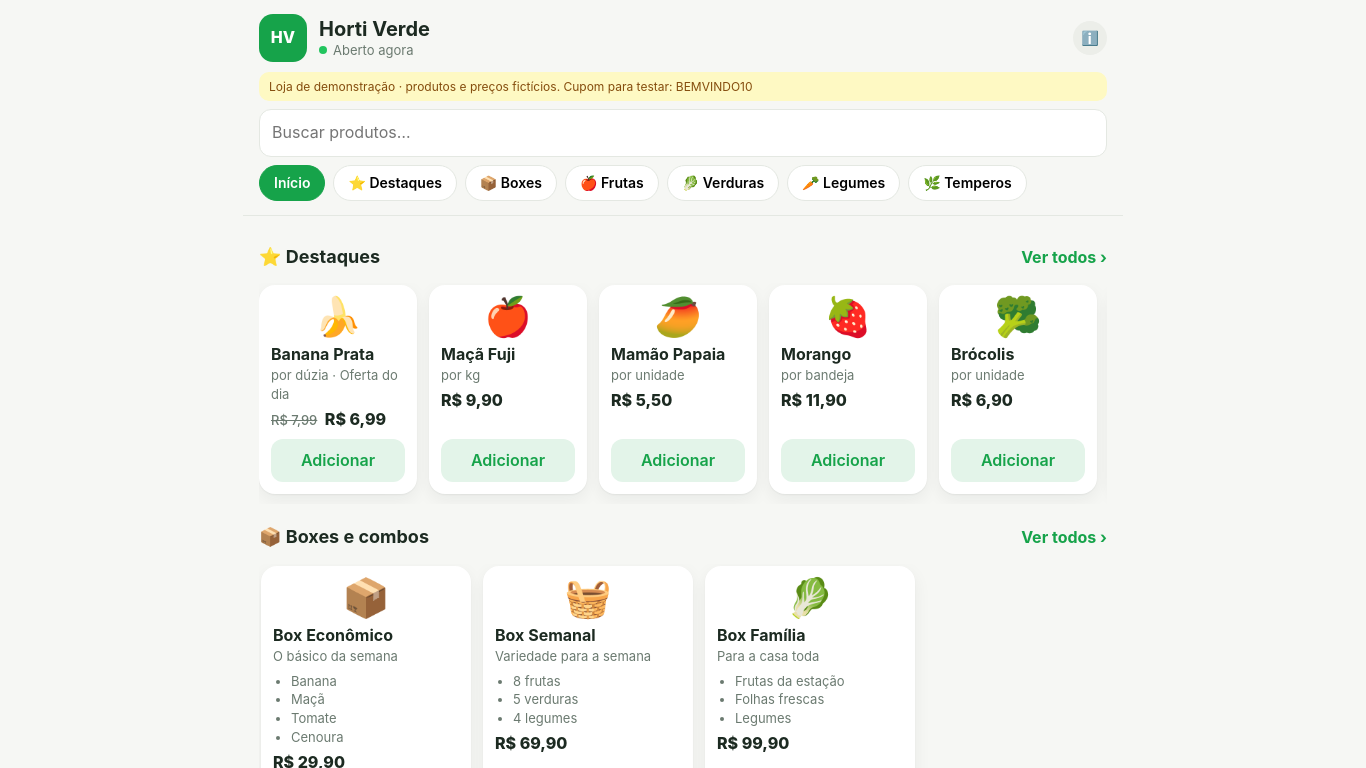
Test case: vitrine (loja demonstração) › ESC fecha o carrinho e a ficha da loja mostra horários
The width and height of the screenshot is (1366, 768).
Click the button named "Informações da loja" at point(1090, 38), box [1073,21,1107,55]
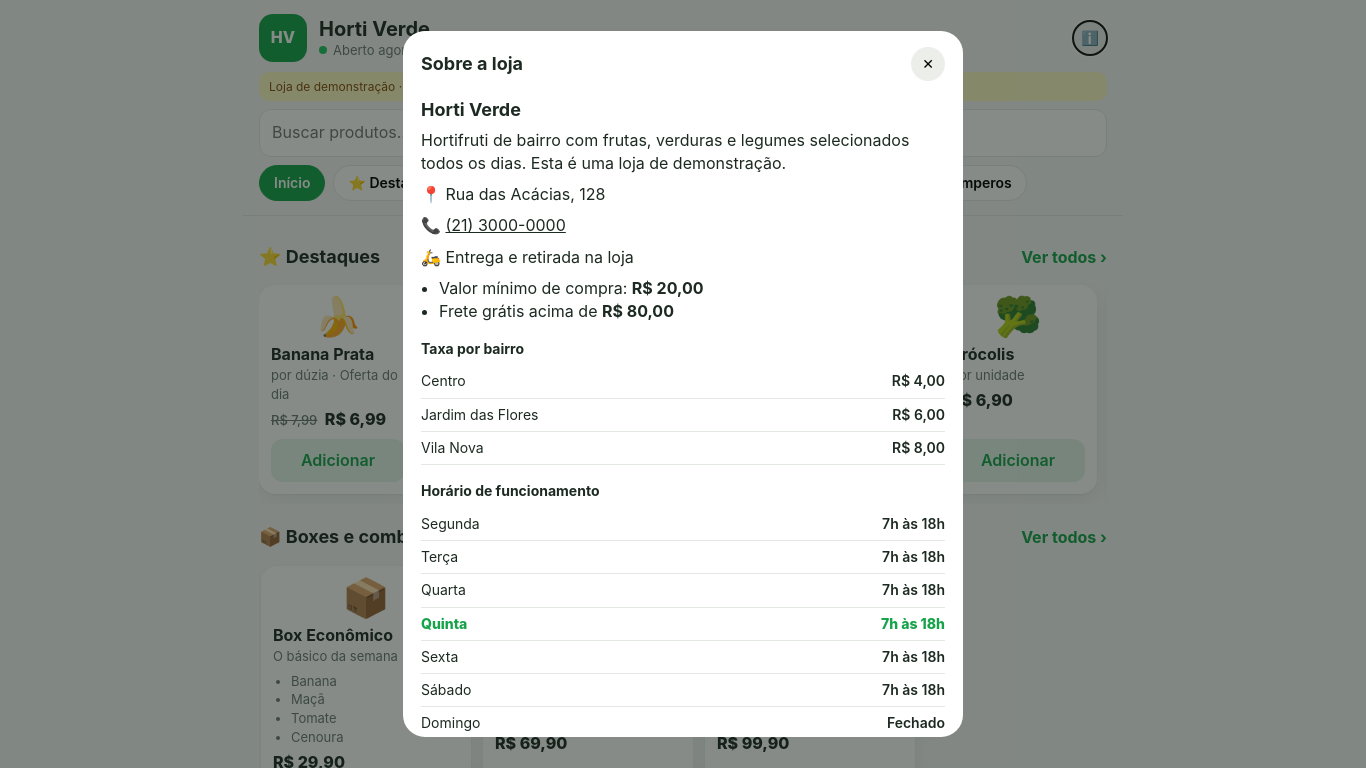
Now the text "Segunda" is shown, box [421,508,674,540]
Now the text "Domingo" is shown, box [421,707,674,737]
Press Escape
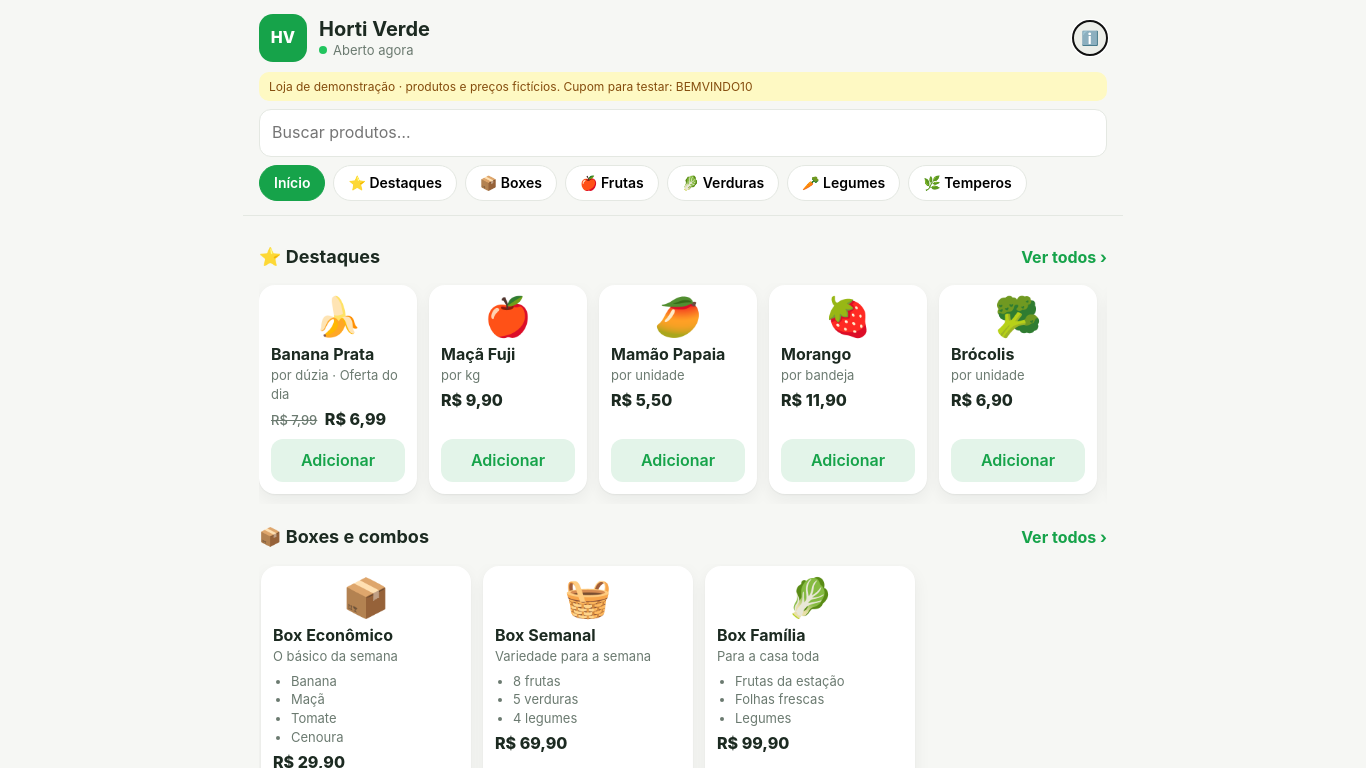
Now the dialog is gone
